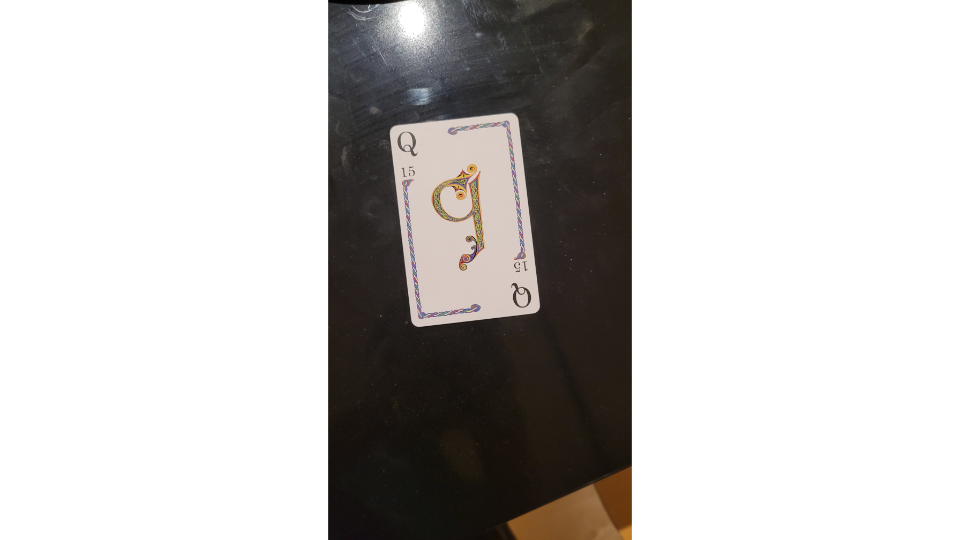Q: (387, 110, 545, 330)
